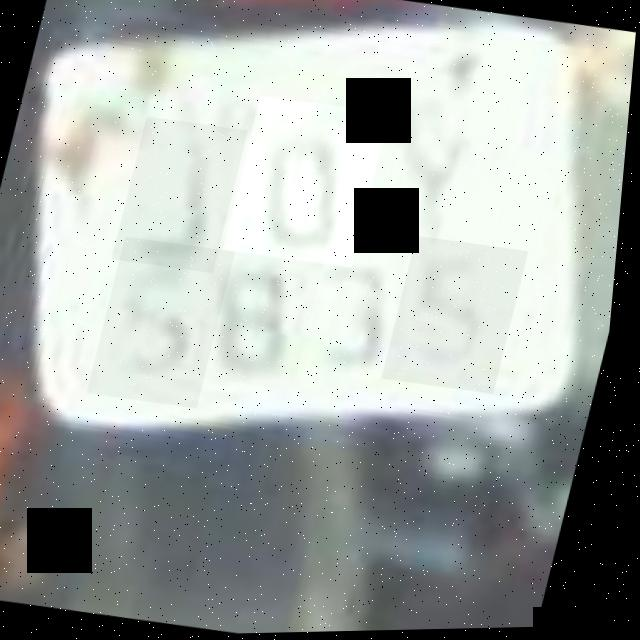5: (92, 234, 242, 413), (387, 236, 534, 398)
8: (193, 241, 332, 393)
J: (115, 115, 252, 277)
O: (226, 95, 394, 272)
